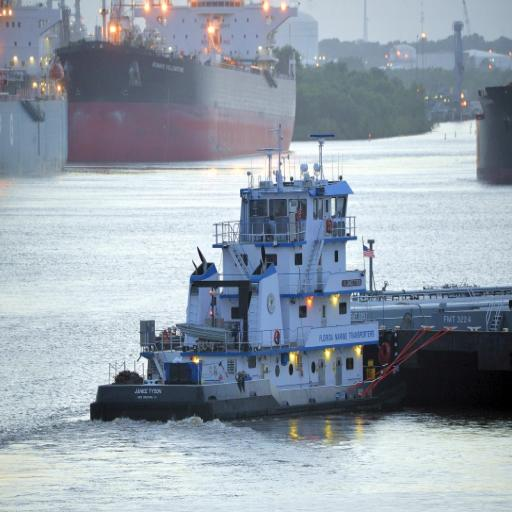tugboat: (85, 132, 424, 428)
